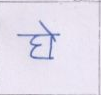o_matra: (43, 22, 57, 59)
